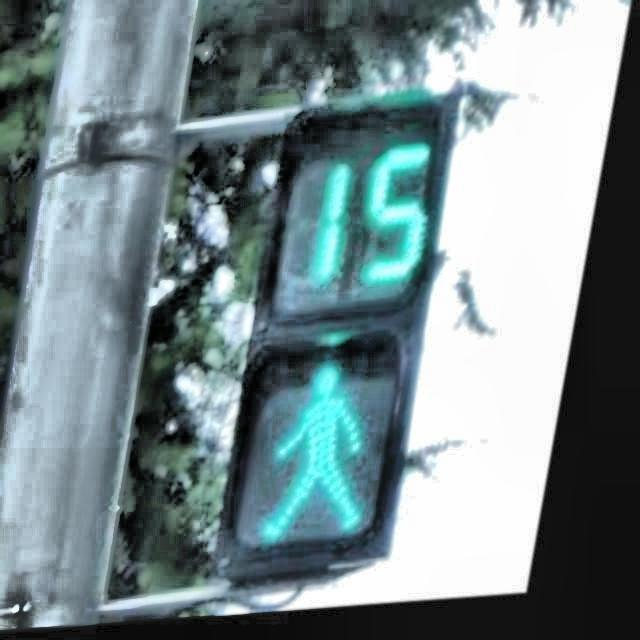semaforo pedestre: (170, 28, 574, 584)
